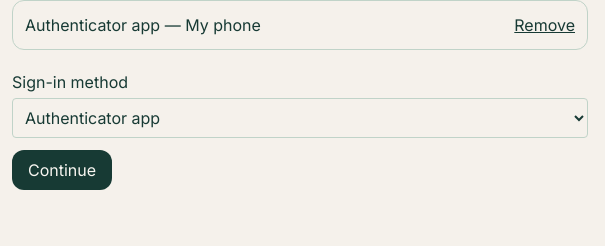
Test case: account-security operations › shows a TOTP setup key from the SDK challenge and clears it on cancel
Submit the form, box [12,70,588,190]
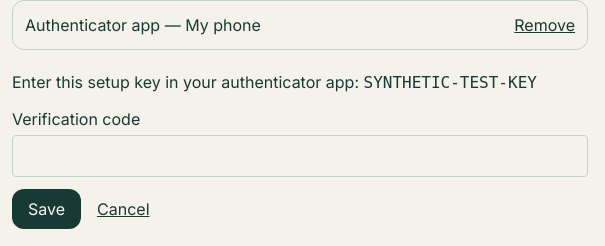
Check: the text "SYNTHETIC-TEST-KEY" is shown, box [364,73,537,92]
Click the button "Cancel" at (123, 209), box [97,197,150,221]
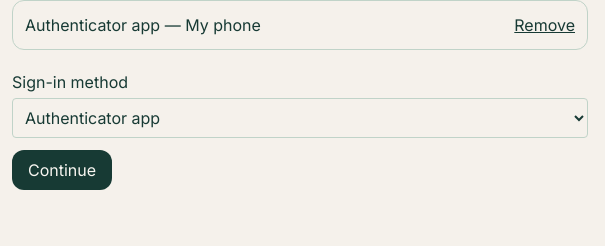
Check: the text "SYNTHETIC-TEST-KEY" is gone
